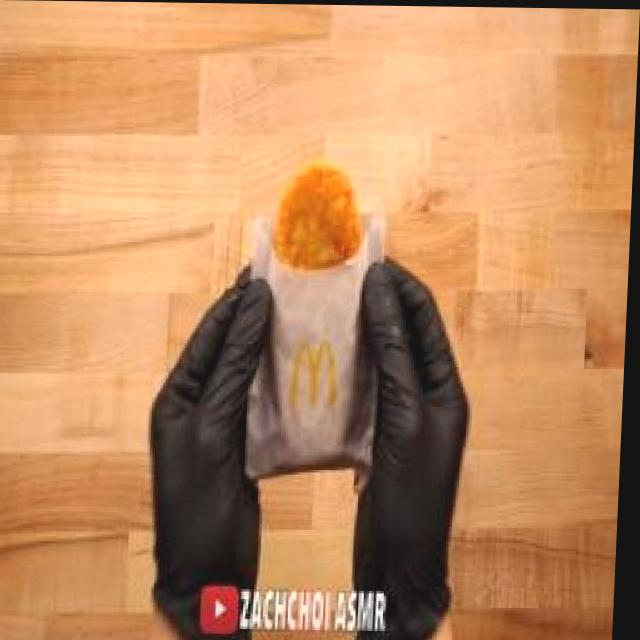Hashbrown: (261, 131, 386, 318)
